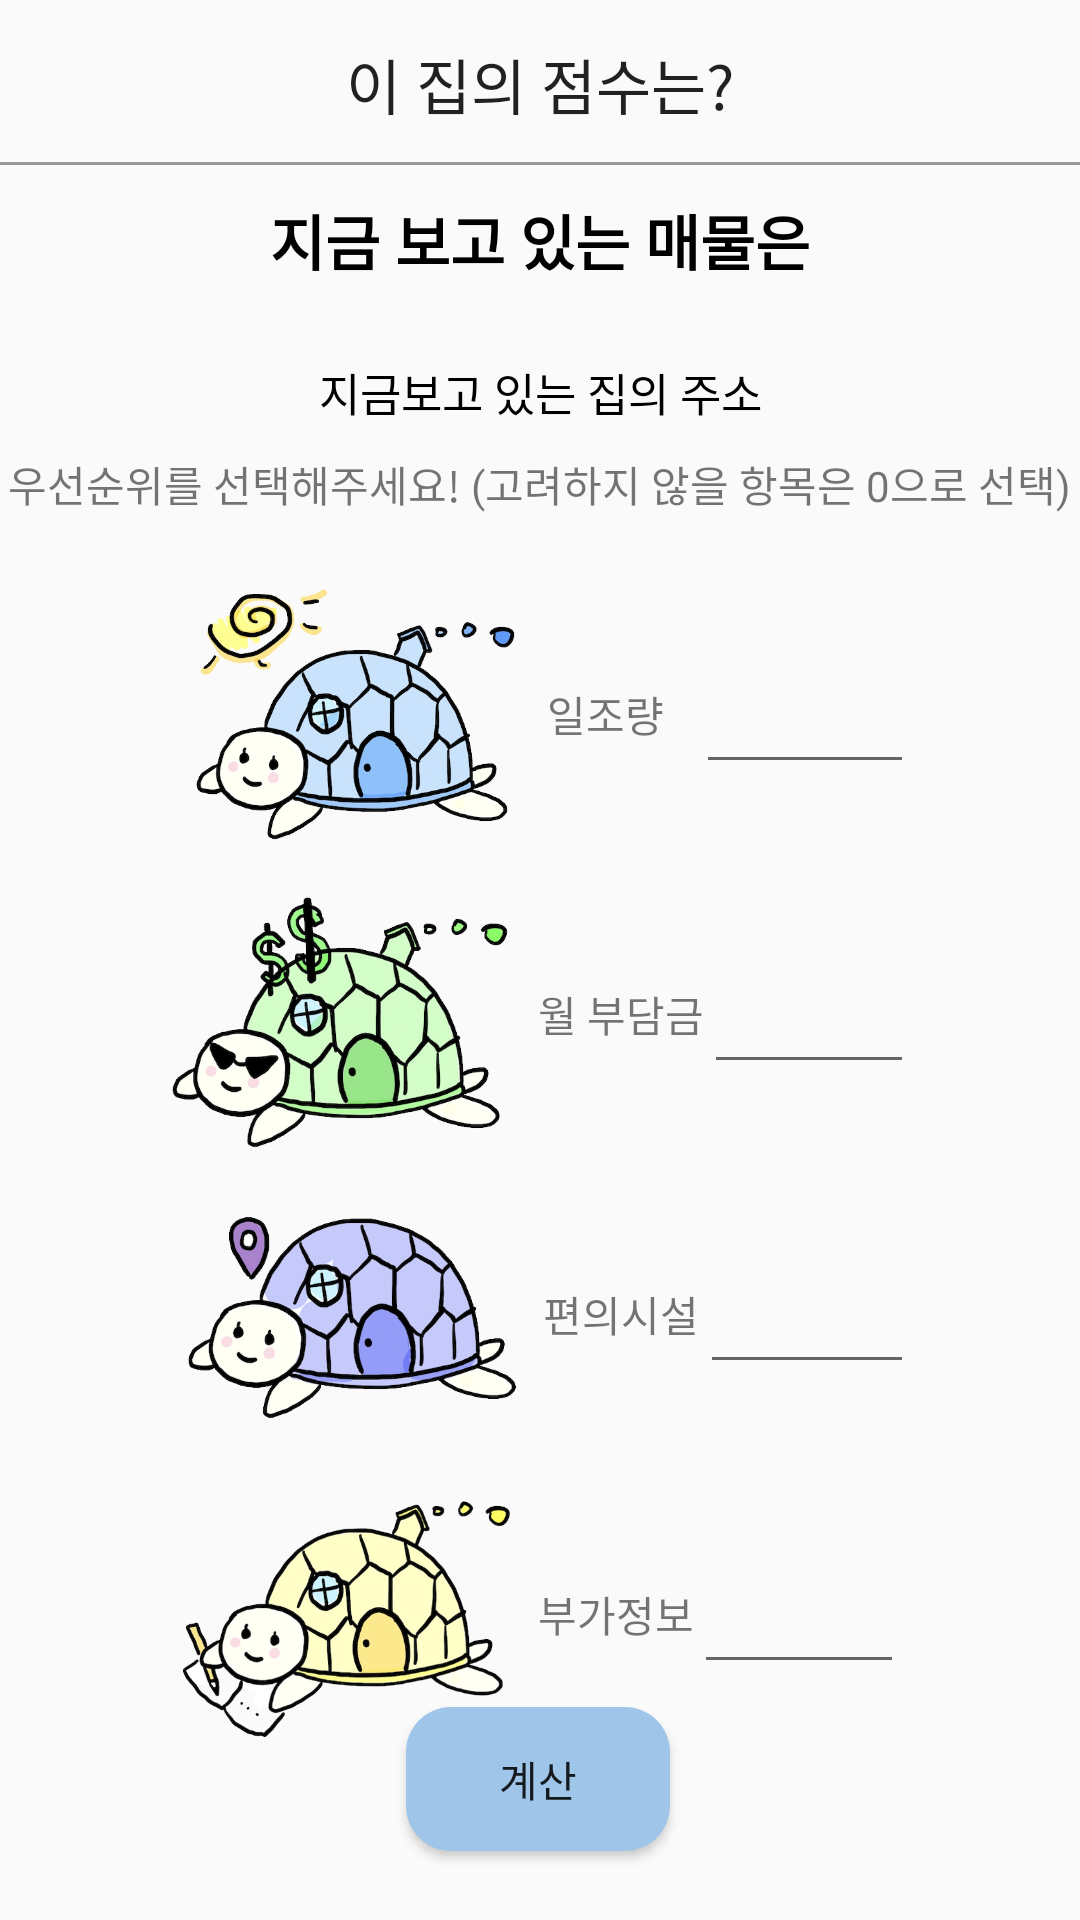

Point at icon controls on the screen. Image size 1080px x 1920px, points as point (x, y).
turtle map: point (352, 1317)
turtle money: point (339, 1022)
turtle sun: point (355, 714)
